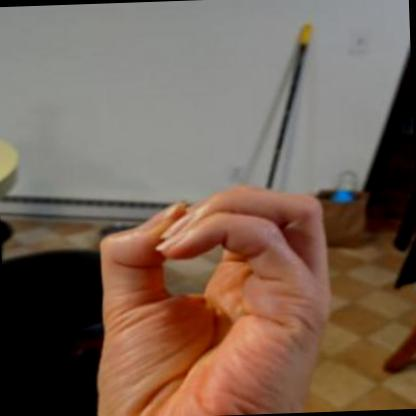O: (62, 170, 351, 416)
